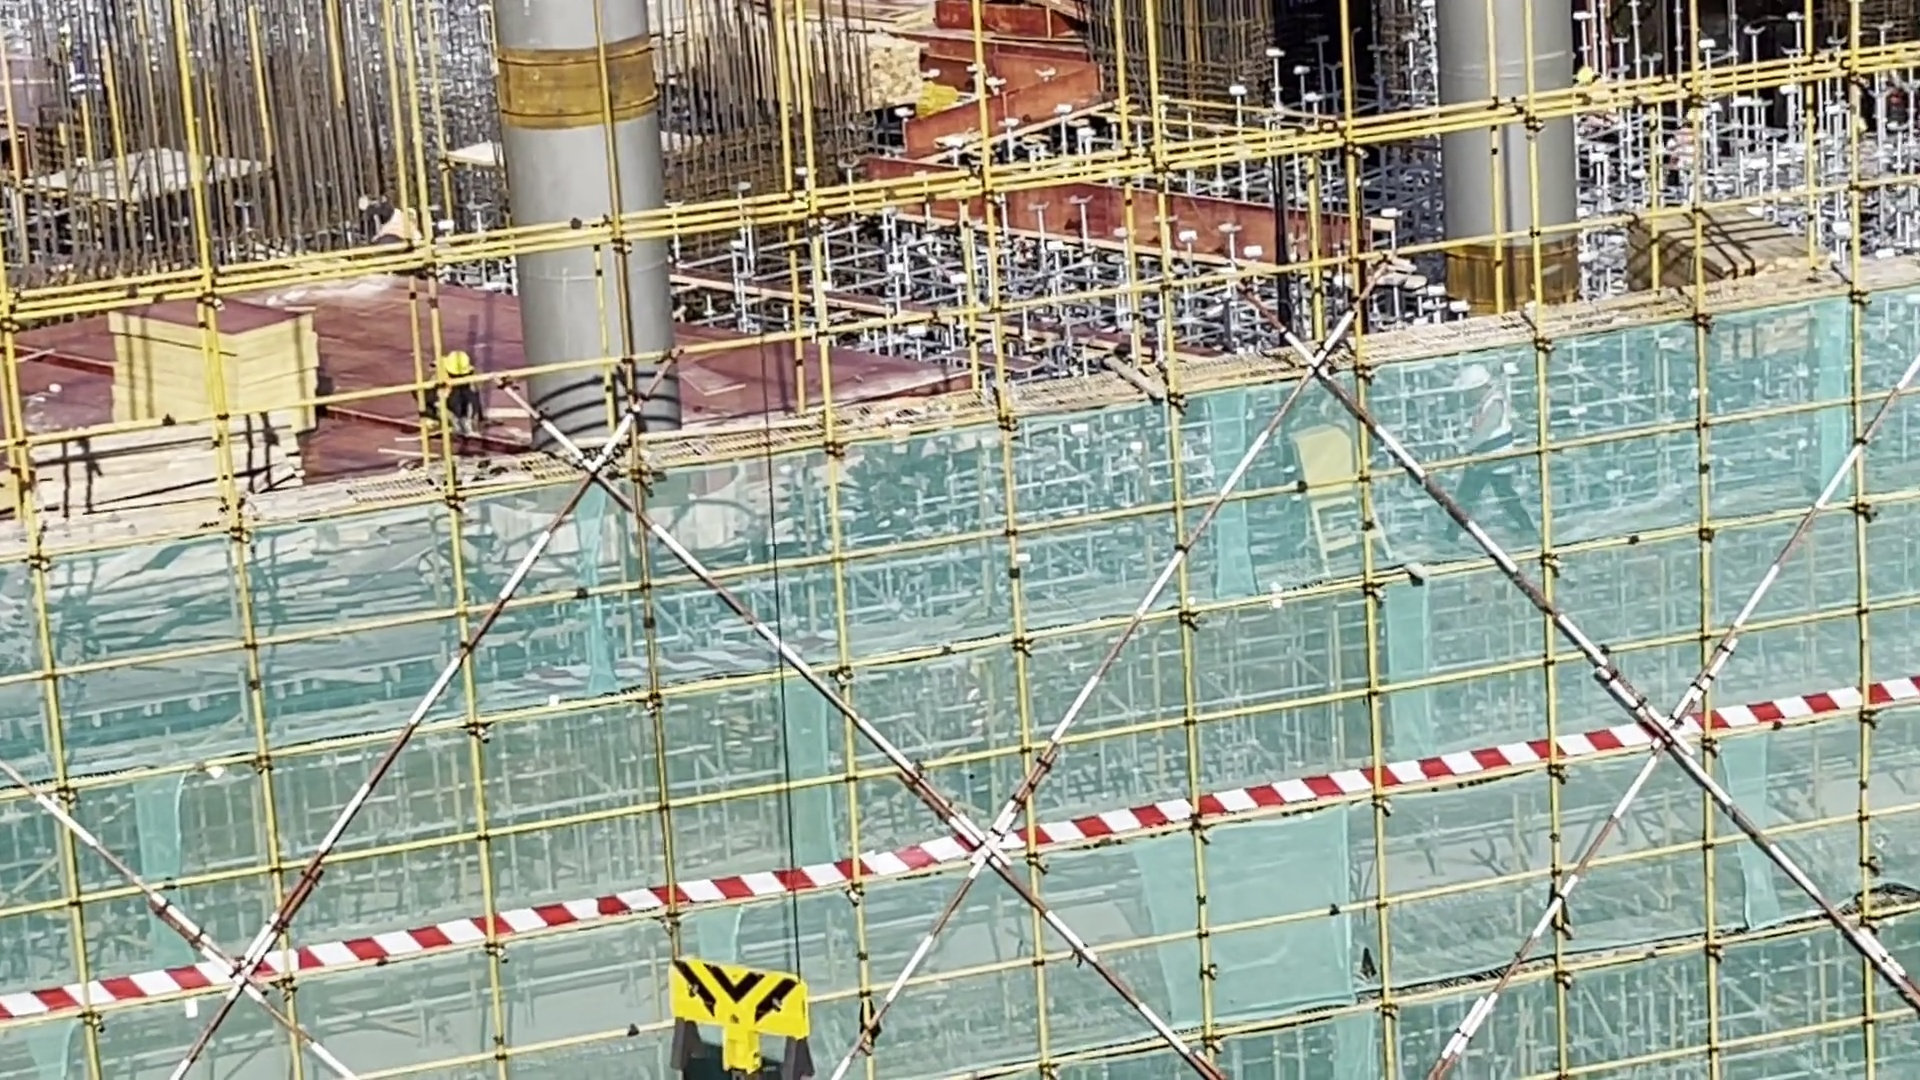board: (111, 293, 319, 430)
hook: (663, 962, 813, 1077)
person: (415, 343, 482, 434)
wood: (1635, 200, 1817, 307)
